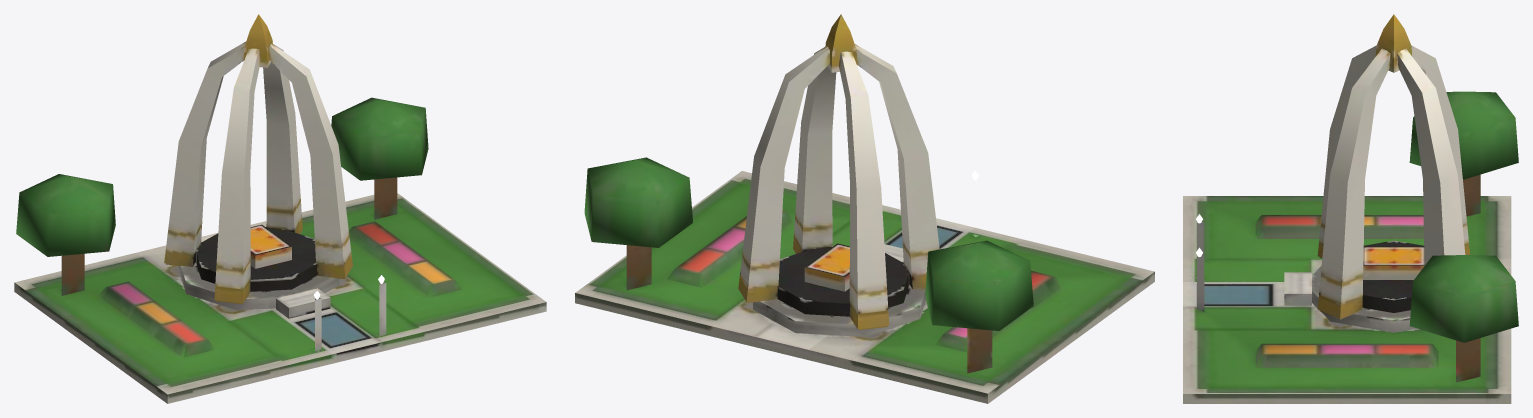
The model's file is ntr_memorial.glb.
The picture shows the model from 3 angles, left to right: view 1: azimuth 30°, elevation 25°; view 2: azimuth 150°, elevation 25°; view 3: azimuth 270°, elevation 25°; orthographic projection. The views are drawn at different scales.
Visible parts, largest first — view 1: ntr_memorial_body; view 2: ntr_memorial_body; view 3: ntr_memorial_body.
Part boxes in pixels (x1,y1,x2,y2): ntr_memorial_body: [14, 14, 546, 403]; ntr_memorial_body: [575, 14, 1154, 403]; ntr_memorial_body: [1183, 14, 1518, 403].
Size of the model in its own units: 41.86 by 27.4 by 28.66.
2 materials, 1 textured.
